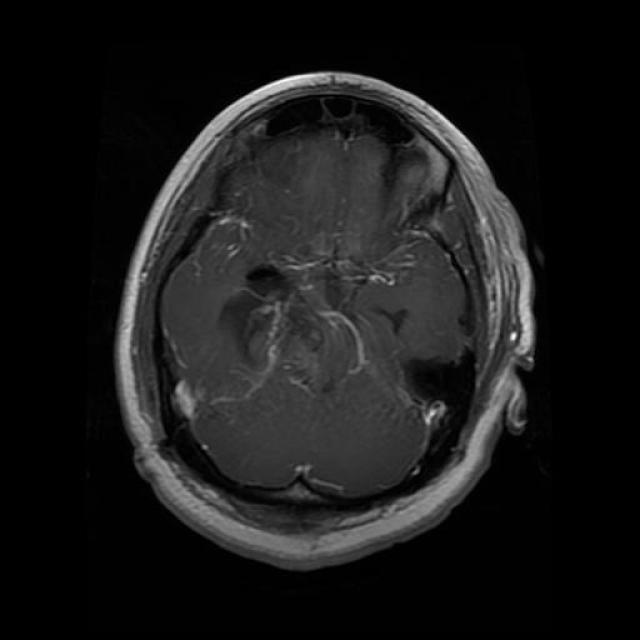glioma: (215, 242, 394, 408)
